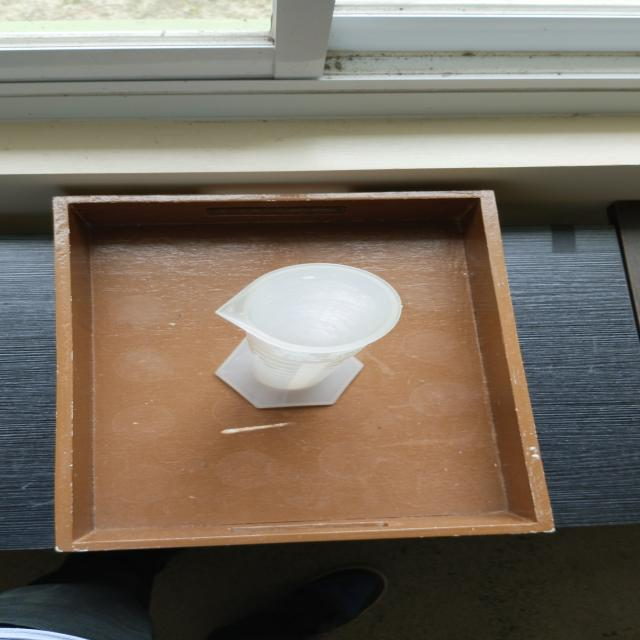graduated_cylinder: (194, 259, 410, 413)
